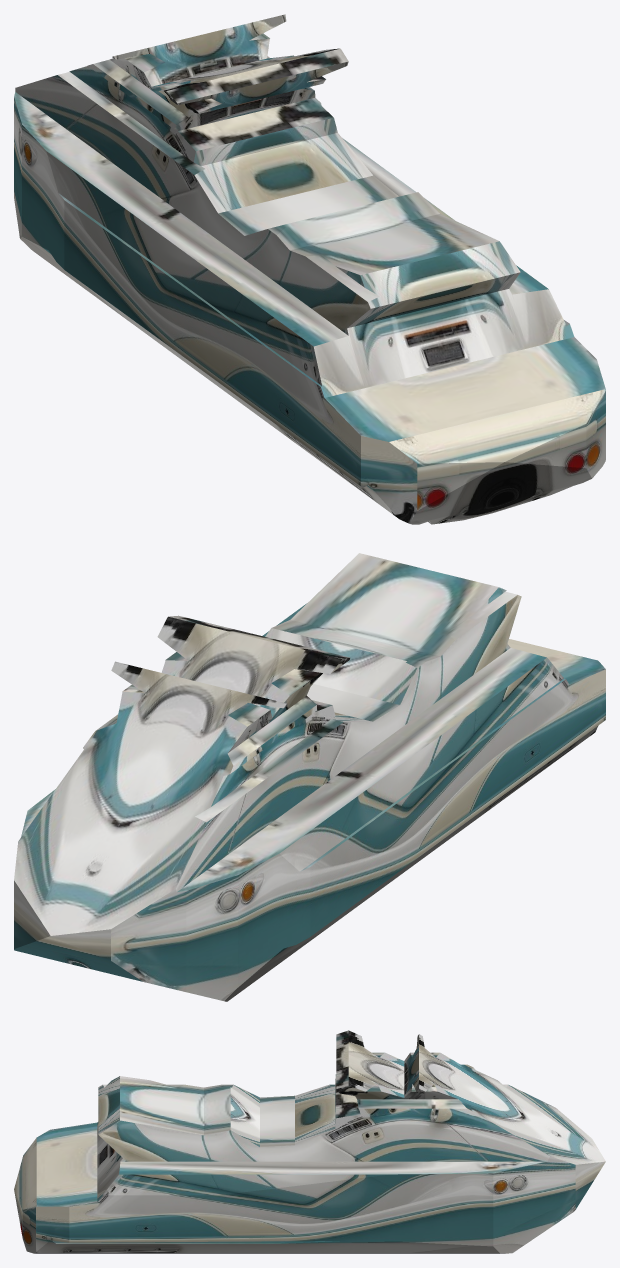
Rendered from personal_watercraft.glb.
3 views of the same model, one above another, from view 1: azimuth 30°, elevation 25°; view 2: azimuth 150°, elevation 25°; view 3: azimuth 270°, elevation 25° (orthographic). The views are drawn at different scales.
Parts seen in each view (by area): view 1: personal_watercraft; view 2: personal_watercraft; view 3: personal_watercraft.
Part boxes in pixels (bbox=[...]): personal_watercraft: bbox=[14, 14, 605, 524]; personal_watercraft: bbox=[14, 553, 605, 1001]; personal_watercraft: bbox=[14, 1030, 605, 1253].
Bounding box in the file's own units: 1.06 × 1.14 × 3.3.
Materials: 2 (1 with a texture image).
